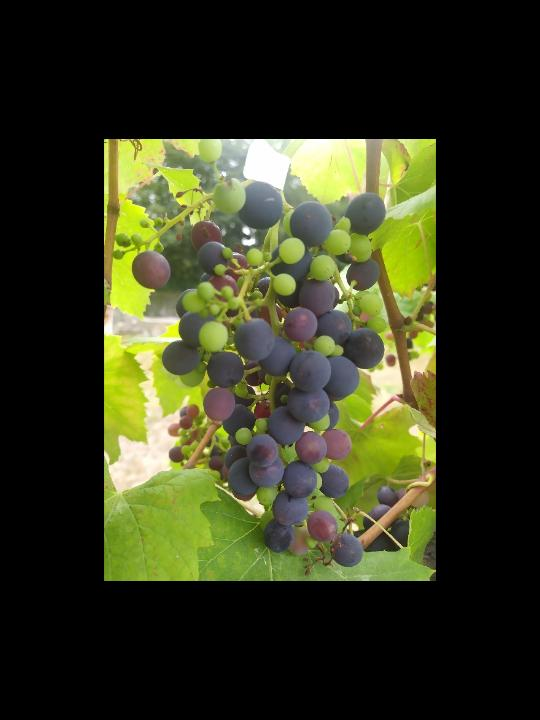grape: (112, 143, 385, 576)
